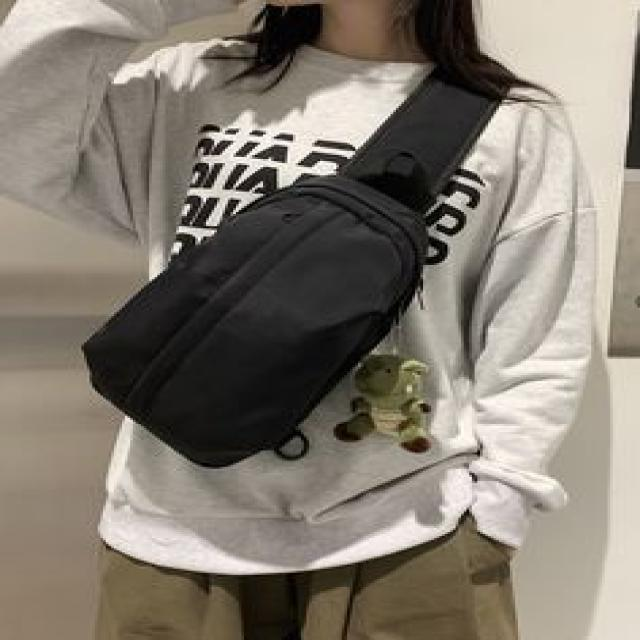handbag: (79, 142, 428, 473)
